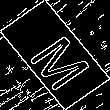M_NE: (18, 22, 92, 88)
